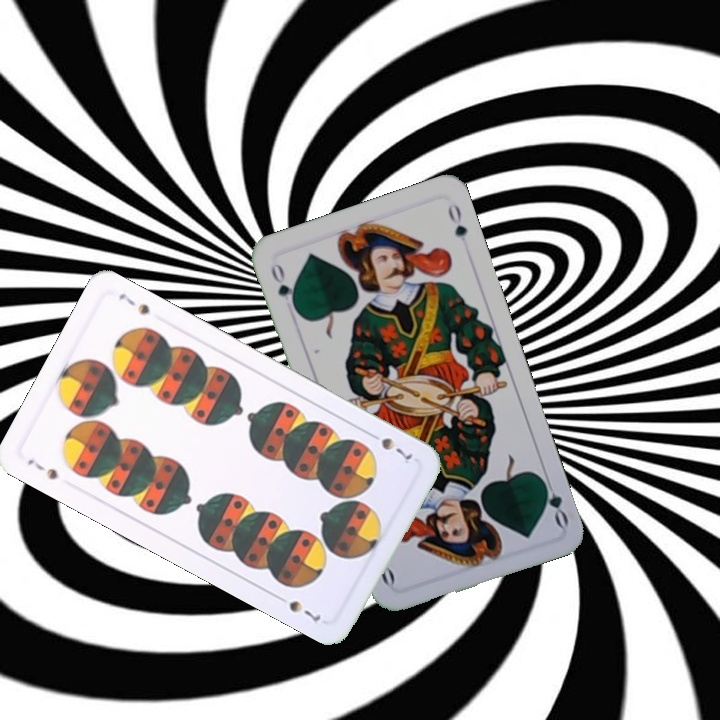GO: (536, 471, 572, 530), (266, 259, 300, 314)
S7: (364, 427, 416, 463), (23, 454, 61, 483)
